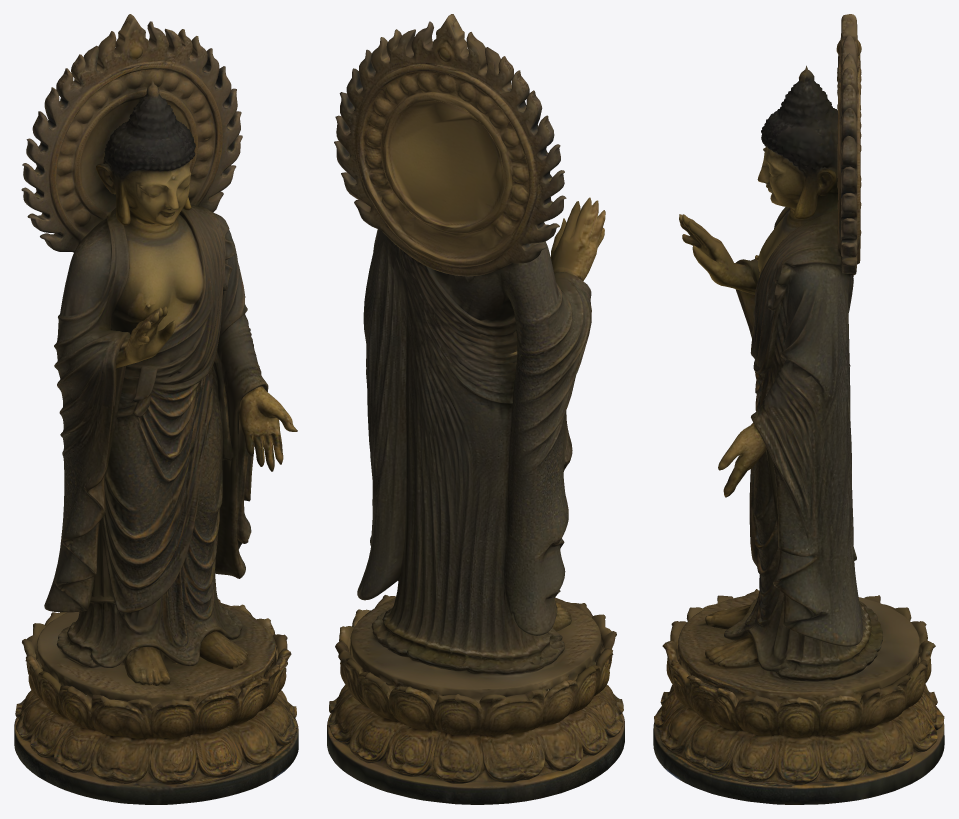
Rendered from buddha01_model_2048.glb.
The picture shows the model from 3 angles, left to right: view 1: azimuth 30°, elevation 25°; view 2: azimuth 150°, elevation 25°; view 3: azimuth 270°, elevation 25°; orthographic projection. The views are drawn at different scales.
Visible parts, largest first — view 1: node_0; view 2: node_0; view 3: node_0.
Boxes of the visible parts, box(x1,y1,x2,y2) form: node_0: box(14, 14, 298, 804); node_0: box(327, 14, 624, 804); node_0: box(653, 14, 944, 804).
Size of the model in its own units: 0.405 by 1.13 by 0.4074.
1 material, 1 textured.
